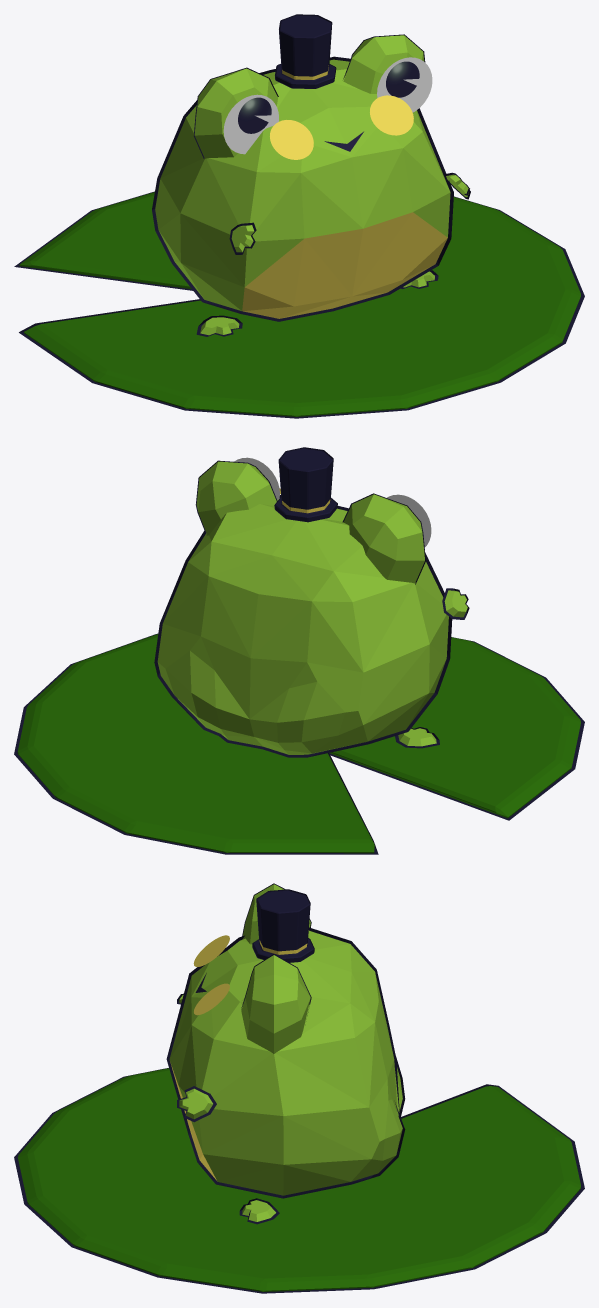
Rendered from frog_a274837b.glb.
The picture shows the model from 3 angles, top to bottom: view 1: azimuth 30°, elevation 25°; view 2: azimuth 150°, elevation 25°; view 3: azimuth 270°, elevation 25°; orthographic projection.
Parts seen in each view (by area): view 1: Circle.005, Cube, Cube.001, Circle.001, Cube.002, Circle.007, Circle, Circle.004, Circle.002, Circle.003; view 2: Circle.005, Cube, Cube.001, Circle.007, Cube.002, Circle, Circle.001, Circle.002; view 3: Circle.005, Cube, Cube.001, Circle.007, Cube.002, Circle, Circle.004, Circle.003.
Part boxes in pixels (<box>): Circle.005: <box>19,192,580,416</box>; Cube: <box>155,59,450,318</box>; Cube.001: <box>194,35,424,158</box>; Circle.001: <box>223,57,432,154</box>; Cube.002: <box>152,34,470,336</box>; Circle.007: <box>275,15,335,88</box>; Circle: <box>14,191,584,418</box>; Circle.004: <box>270,95,413,159</box>; Circle.002: <box>200,271,434,335</box>; Circle.003: <box>231,174,468,252</box>; Circle.005: <box>17,634,580,853</box>; Cube: <box>157,499,448,754</box>; Cube.001: <box>196,461,424,583</box>; Circle.007: <box>275,448,337,521</box>; Cube.002: <box>154,460,469,757</box>; Circle: <box>14,633,584,854</box>; Circle.001: <box>234,457,431,547</box>; Circle.002: <box>398,728,436,746</box>; Circle.005: <box>18,1068,580,1291</box>; Cube: <box>169,930,402,1195</box>; Cube.001: <box>241,884,310,1053</box>; Circle.007: <box>253,890,313,962</box>; Cube.002: <box>166,883,405,1224</box>; Circle: <box>14,1068,584,1293</box>; Circle.004: <box>193,935,229,1015</box>; Circle.003: <box>179,995,212,1119</box>.
Size of the model in its own units: 2280 by 1218 by 2306.
Materials: 8 (1 with a texture image).
